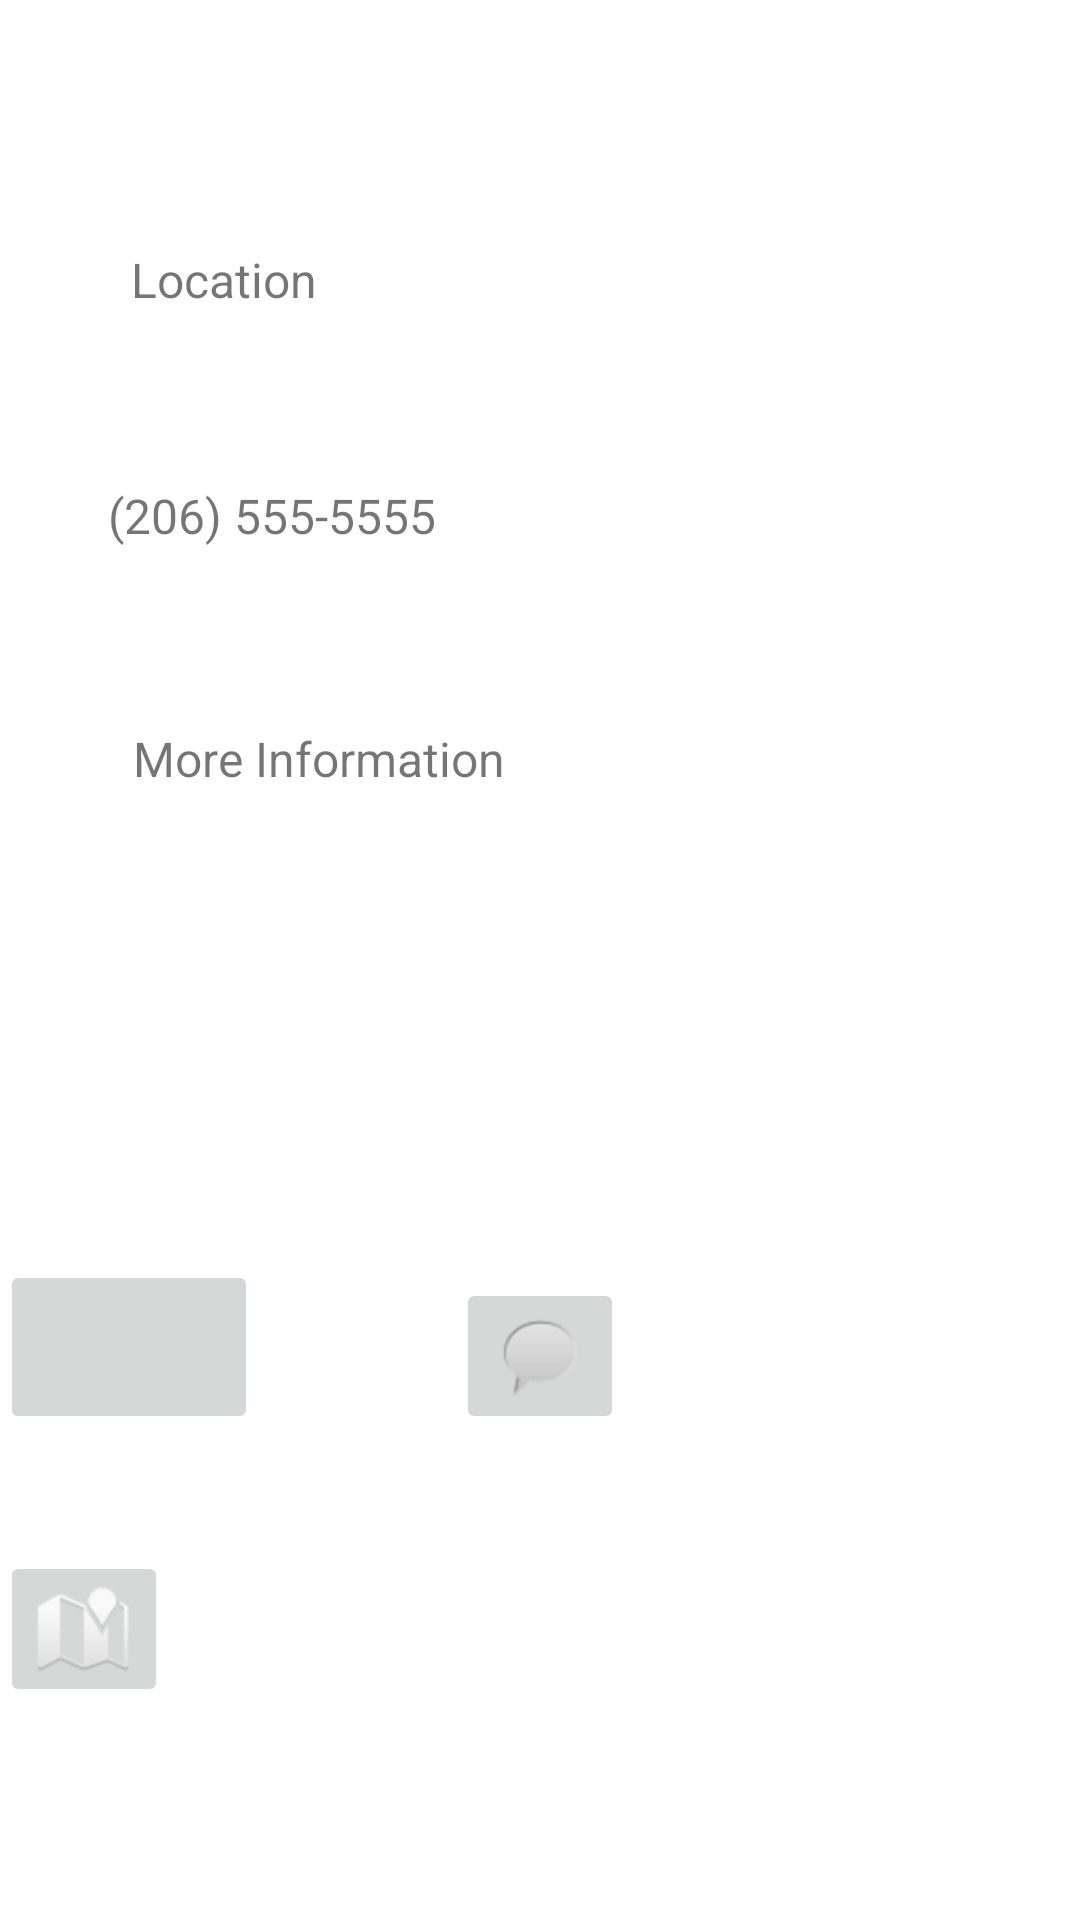

Where icons sit on this 1080*1920 app screen, as BBox(x1, y1, x2, y2):
map: BBox(12, 1569, 156, 1689)
sym action chat: BBox(468, 1296, 612, 1416)
